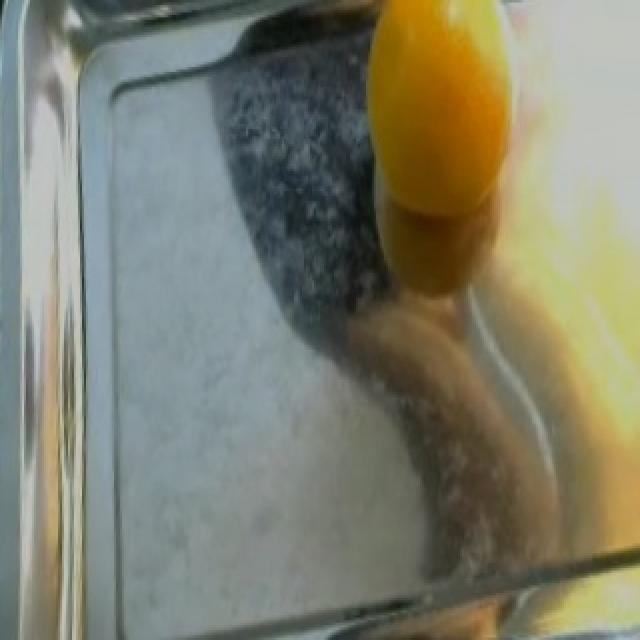Fruit: (336, 0, 542, 233)
